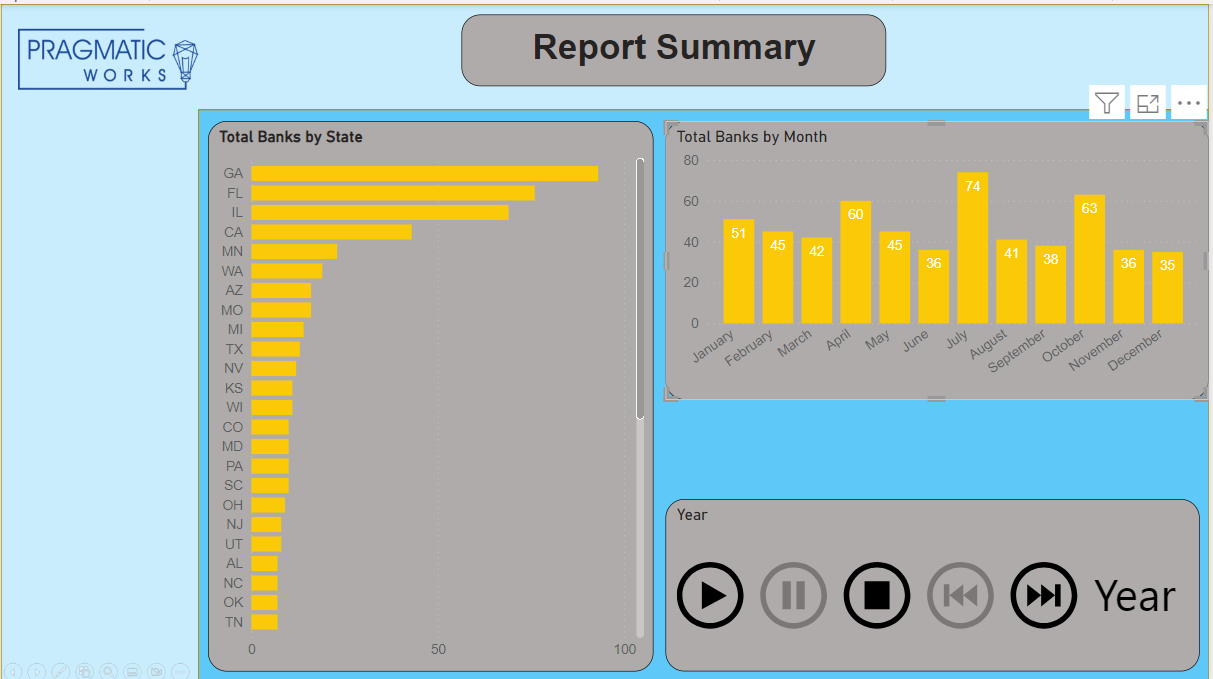

What the dashboard file says about the page in this screenshot:
{"tool":"powerbi","page":{"name":"Report Summary","canvas":[1280,720],"ordinal":0},"visuals":[{"type":"barChart","title":"Total Banks  by State ","fields":{"Category":["FailedBank.State "],"Y":["CountNonNull(FailedBank.City )"]},"box":[219.3,124,472.1,583.3],"z":0},{"type":"columnChart","title":"Total Banks by Month","fields":{"Category":["Calendar.Month"],"Y":["CountNonNull(FailedBank.Bank Name )"]},"box":[704.1,124,575.4,295.6],"z":1},{"type":"textbox","box":[487.9,11.1,449.8,76.3],"z":2},{"type":"PBI_CV_16948668_E17D_454B_8664_2F2C470EA8C1","fields":{"category":["Calendar.Year"]},"box":[704.1,524.5,565.8,182.8],"z":3}]}

Visuals, with their boxes in screenshot pixels (x1, y1, x2, y2), scaled from the page's 1280x720 canvas onto the 1213x679 screenshot:
"Total Banks  by State " barChart: <bbox>208, 117, 655, 667</bbox>
"Total Banks by Month" columnChart: <bbox>667, 117, 1212, 396</bbox>
textbox: <bbox>462, 10, 889, 82</bbox>
PBI_CV_16948668_E17D_454B_8664_2F2C470EA8C1 - Calendar.Year: <bbox>667, 495, 1203, 667</bbox>
